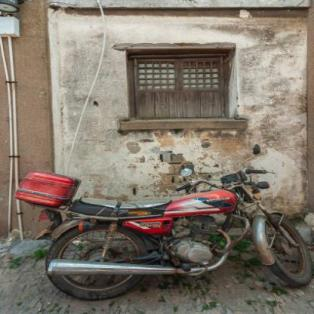Motocicleta: (16, 143, 313, 302)
